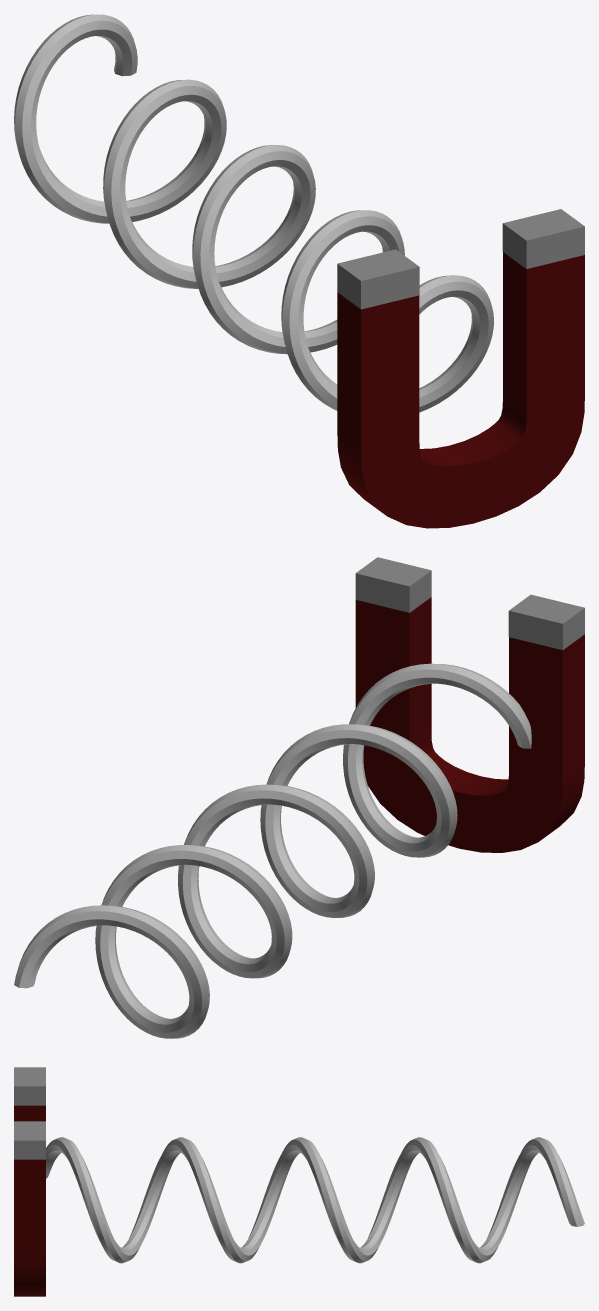
The model's file is magnetCoil.fbx.
The picture shows the model from 3 angles, top to bottom: view 1: azimuth 30°, elevation 25°; view 2: azimuth 150°, elevation 25°; view 3: azimuth 270°, elevation 25°; orthographic projection. The views are drawn at different scales.
Parts seen in each view (by area): view 1: pCube7_curve2; view 2: pCube7_curve2; view 3: pCube7_curve2.
Part boxes in pixels (x1,y1,x2,y2): pCube7_curve2: [14, 14, 584, 528]; pCube7_curve2: [14, 557, 584, 1038]; pCube7_curve2: [14, 1067, 584, 1296].
Size of the model in its own units: 2.74 by 3.16 by 9.04.
